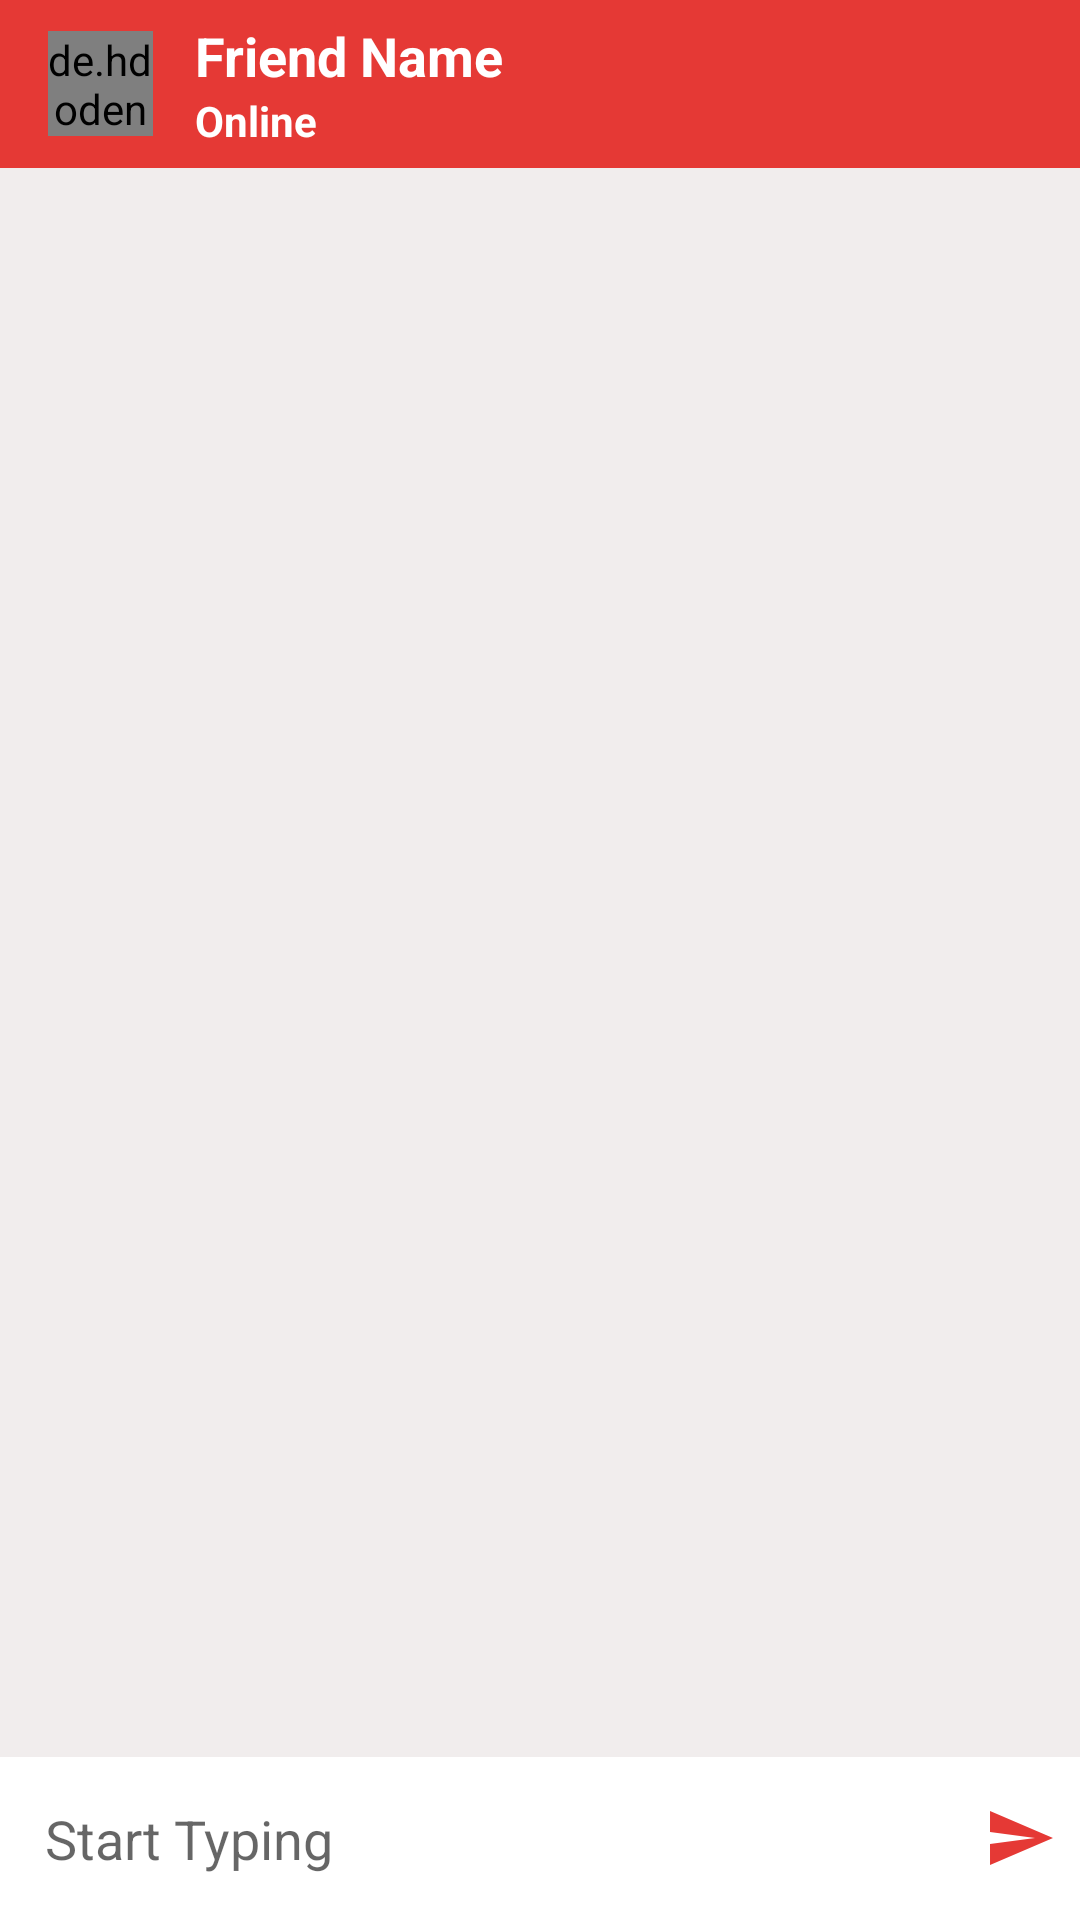

Named icons in this screenshot (1080w x 1920h) and their bounding boxes, (x1, y1, x2, y2):
sendicon: (990, 1811, 1053, 1865)
